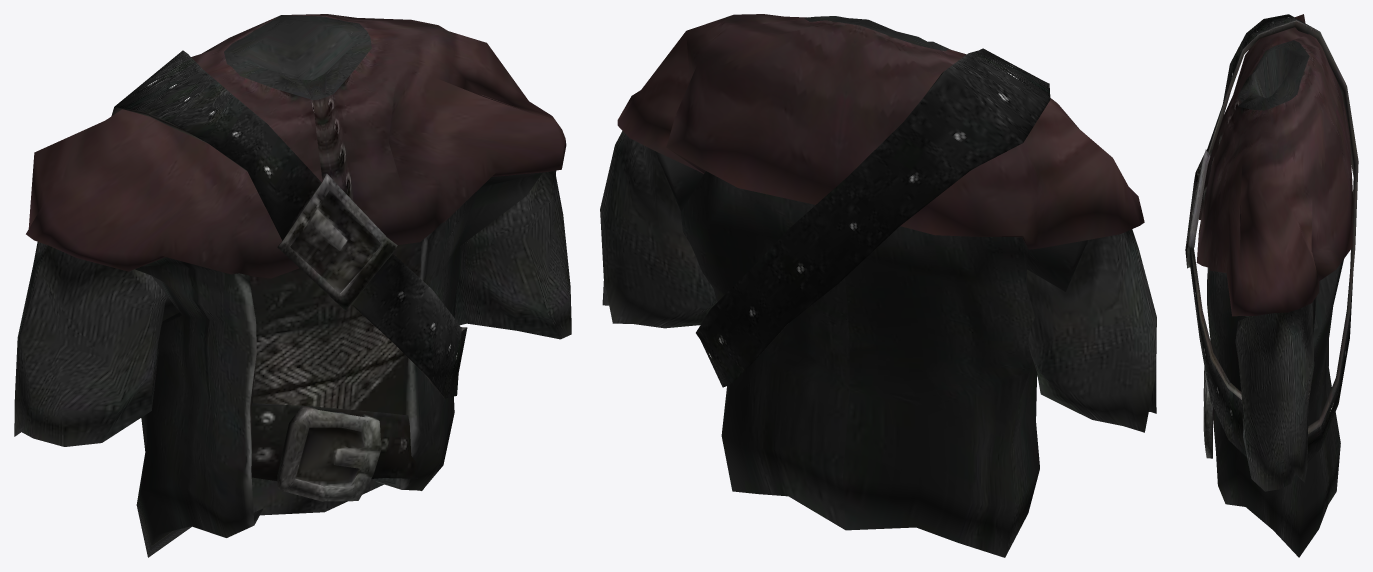
Rendered from STATIC_GS_DB_AKO_ARMOR_M.glb.
3 views of the same model, side by side, from view 1: azimuth 30°, elevation 25°; view 2: azimuth 150°, elevation 25°; view 3: azimuth 270°, elevation 25° (orthographic). The views are drawn at different scales.
Parts seen in each view (by area): view 1: Mesh; view 2: Mesh; view 3: Mesh.
Part boxes in pixels (x1,y1,x2,y2): Mesh: [14, 14, 571, 557]; Mesh: [600, 14, 1156, 557]; Mesh: [1185, 14, 1358, 557].
Size of the model in its own units: 0.6524 by 0.5681 by 0.2007.
Materials: 1 (1 with a texture image).
